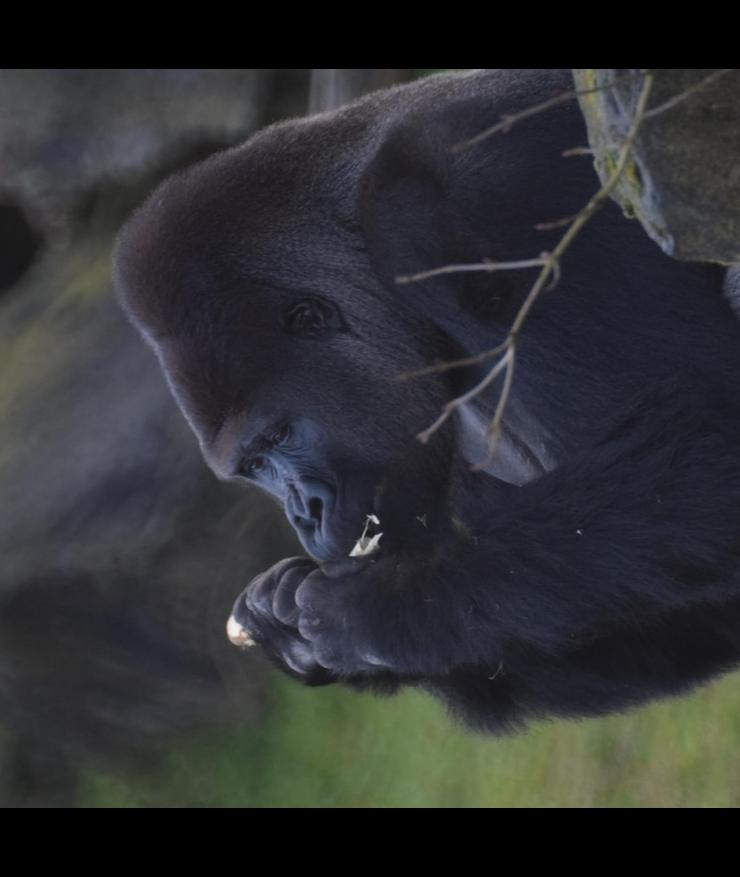gorille_Autres: (23, 68, 740, 761)
